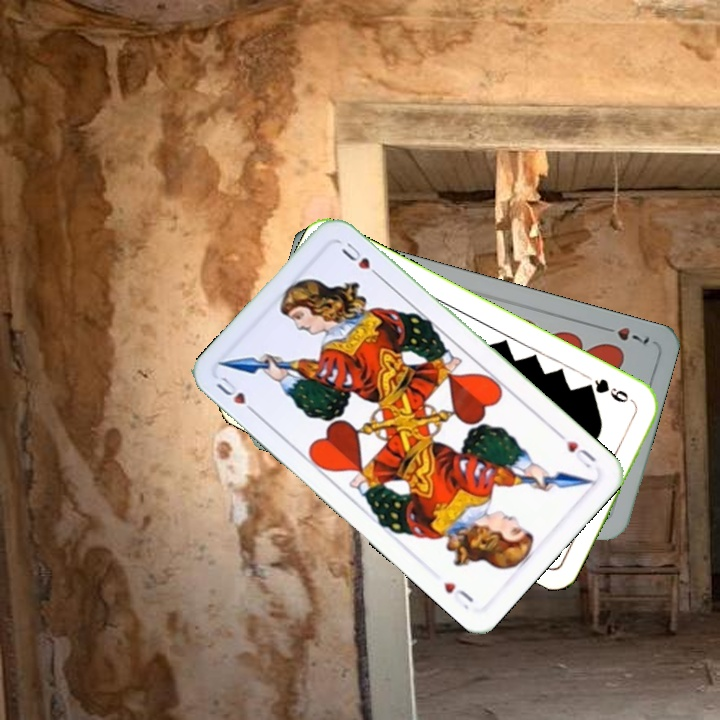G9: (580, 374, 638, 407)
H7: (596, 322, 652, 347)
HU: (212, 372, 260, 418), (553, 428, 599, 471)
